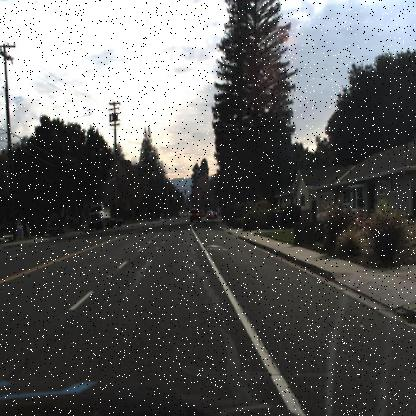car: (188, 207, 202, 224)
truck: (86, 202, 114, 233)
